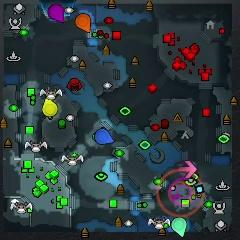p1: (95, 128, 114, 144)
p2: (171, 217, 187, 237)
p3: (48, 5, 65, 23)
p4: (43, 98, 58, 116)
p5: (75, 14, 91, 33)
x1: (179, 160, 197, 178)
